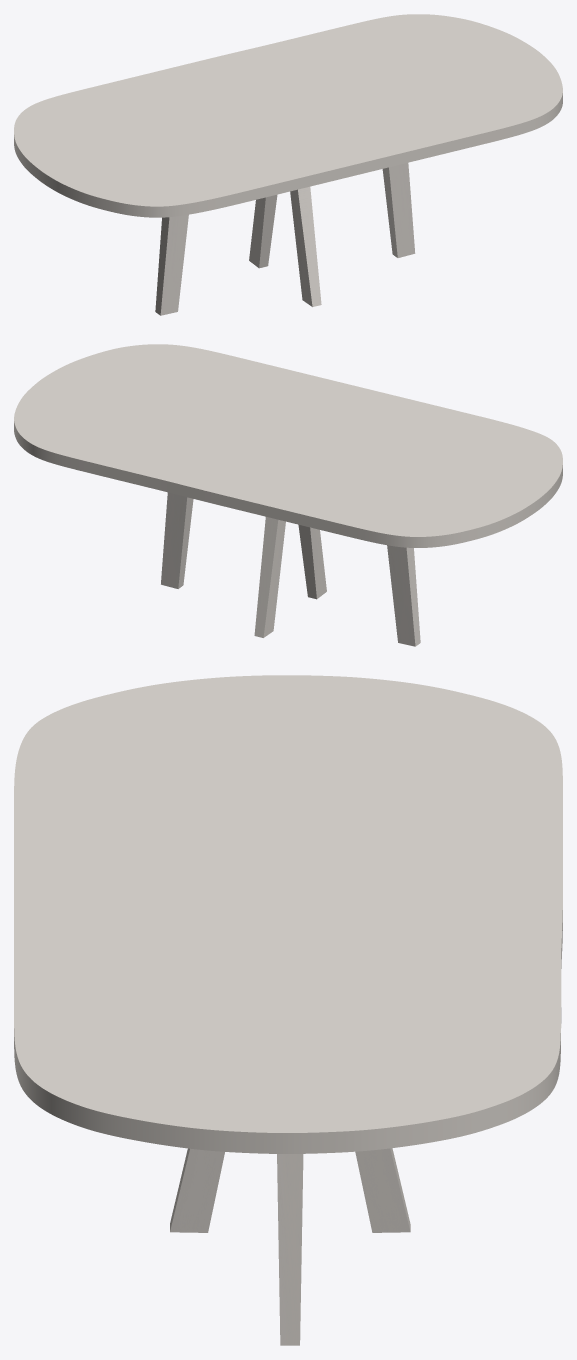
File: pearlwhite_oval_standard_searwalnut.glb
3 views of the same model, one above another, from view 1: azimuth 30°, elevation 25°; view 2: azimuth 150°, elevation 25°; view 3: azimuth 270°, elevation 25° (orthographic). The views are drawn at different scales.
Parts seen in each view (by area): view 1: standard_oval, searwalnut; view 2: standard_oval, searwalnut; view 3: standard_oval, searwalnut.
Boxes of the visible parts, <box> form: standard_oval: <box>14,14,562,217</box>; searwalnut: <box>155,163,415,315</box>; standard_oval: <box>14,344,562,547</box>; searwalnut: <box>161,492,420,646</box>; standard_oval: <box>14,675,562,1153</box>; searwalnut: <box>170,1148,410,1345</box>.
Bounding box in the file's own units: 7.5 × 2.5 × 3.8.
1 material, 1 textured.
